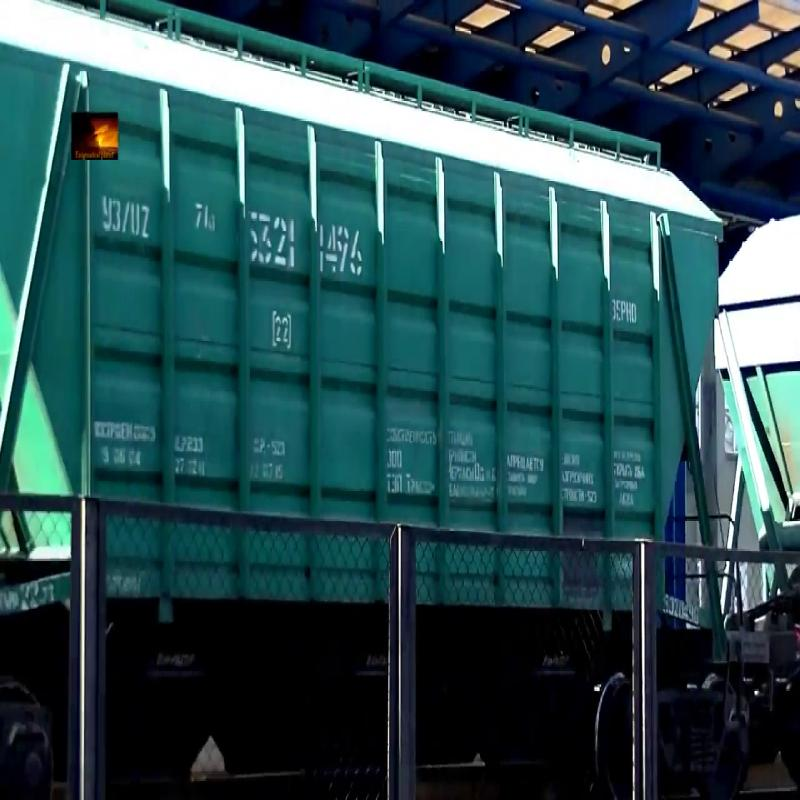train: (2, 10, 748, 776)
